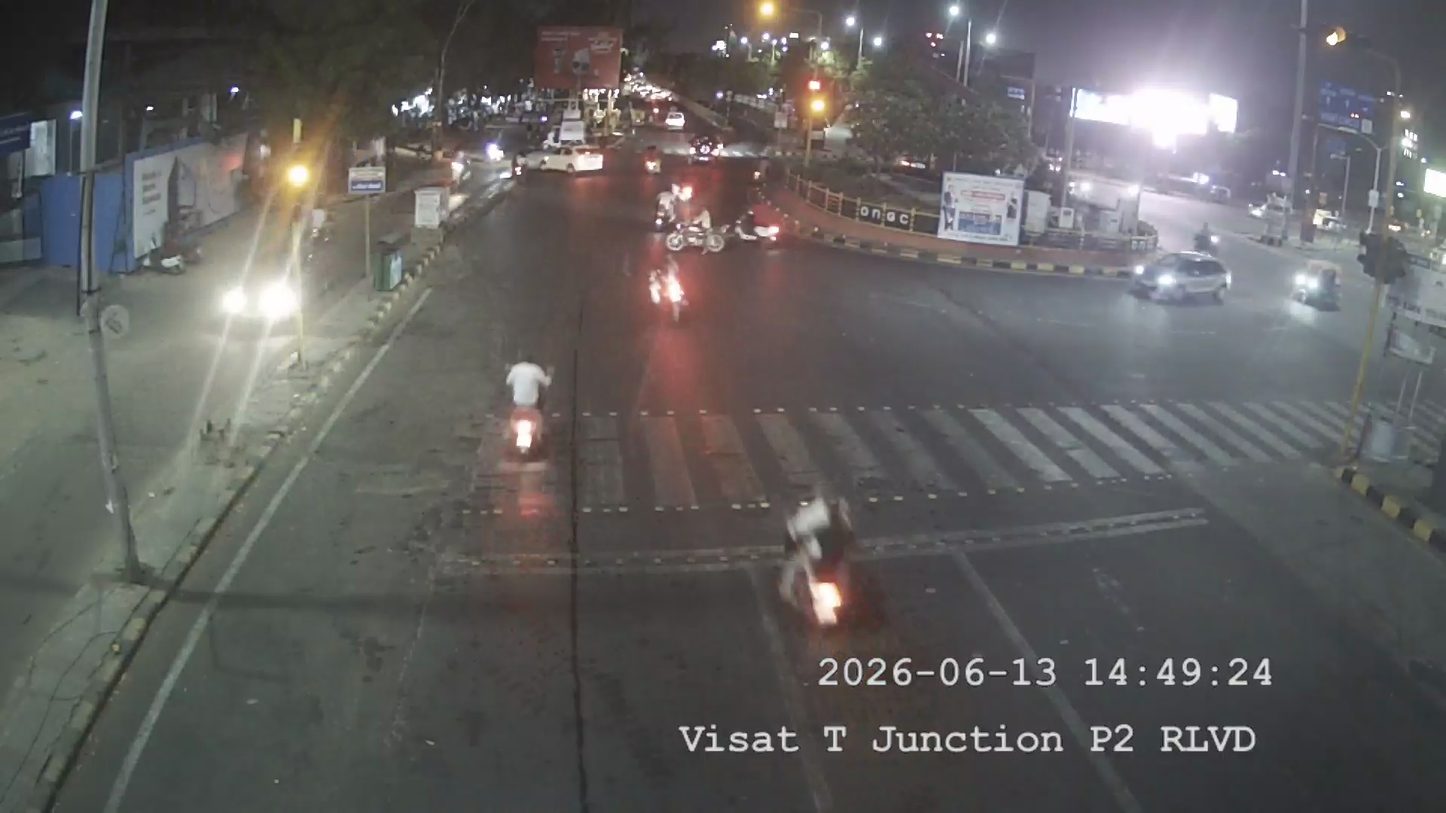auto_rickshaw: (1289, 255, 1345, 314)
car: (1129, 246, 1233, 307), (548, 141, 607, 175), (571, 140, 606, 175)
two_wheeler: (774, 487, 861, 633), (497, 344, 557, 464), (643, 252, 692, 325), (659, 181, 710, 250), (652, 173, 704, 240), (649, 174, 696, 231)
